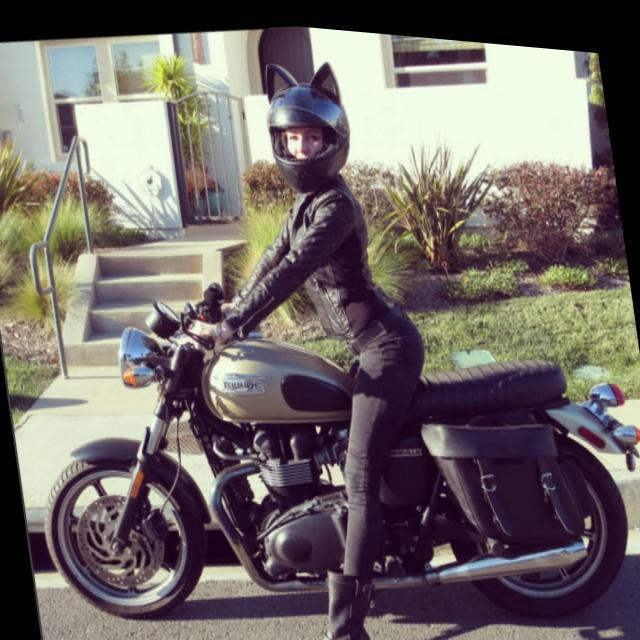Helmet: (253, 50, 357, 193)
